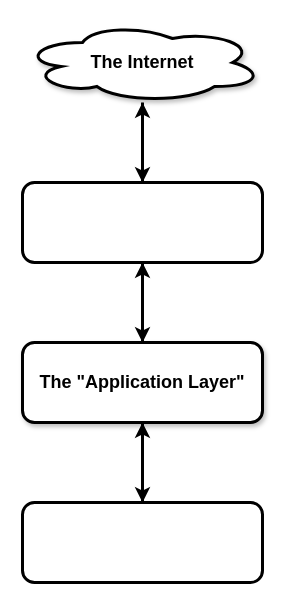
This 287x601 diagram has some shape labels left out. The centre of each missing label's shape, as x and y in pixels:
The "Data Layer": (142,542)
The "Network Layer": (142,222)
